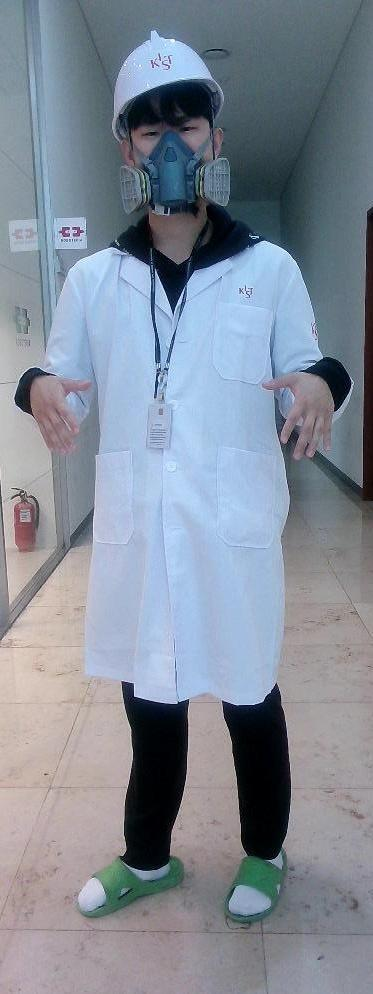lab_coat: (80, 256, 278, 693)
